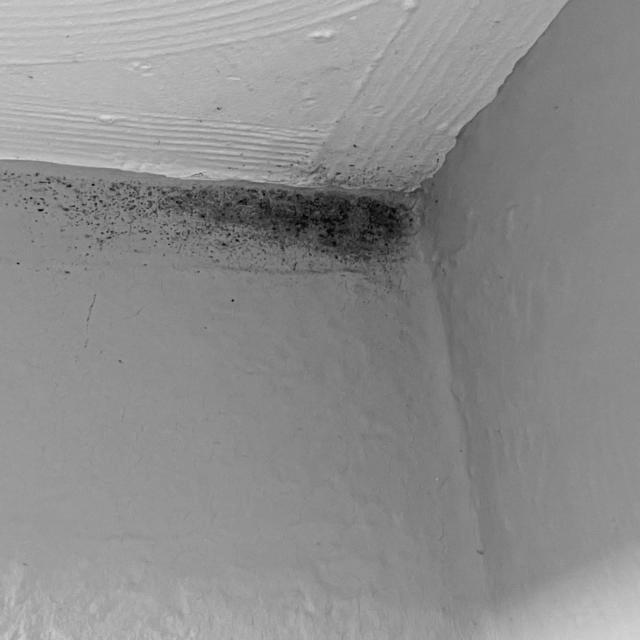stain marks: (0, 155, 453, 308)
trowels marks: (0, 2, 575, 165)
